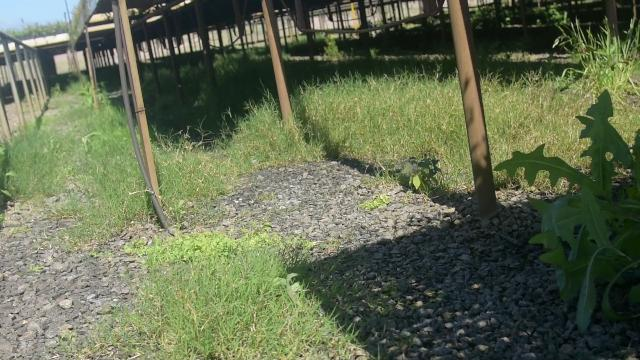MalezaMontesDelPlata: (492, 87, 640, 315), (144, 264, 328, 360), (372, 70, 464, 159), (74, 124, 134, 244), (551, 15, 640, 87), (305, 72, 370, 157), (136, 227, 301, 260), (222, 95, 281, 187), (160, 122, 220, 208), (2, 127, 65, 201), (402, 149, 446, 203)
